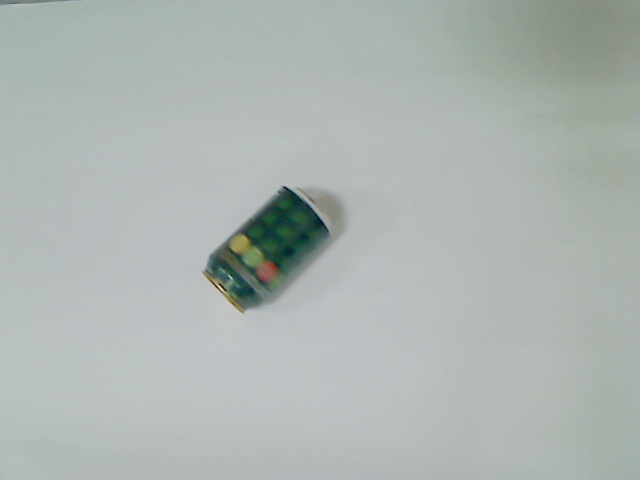can: (200, 185, 339, 315)
